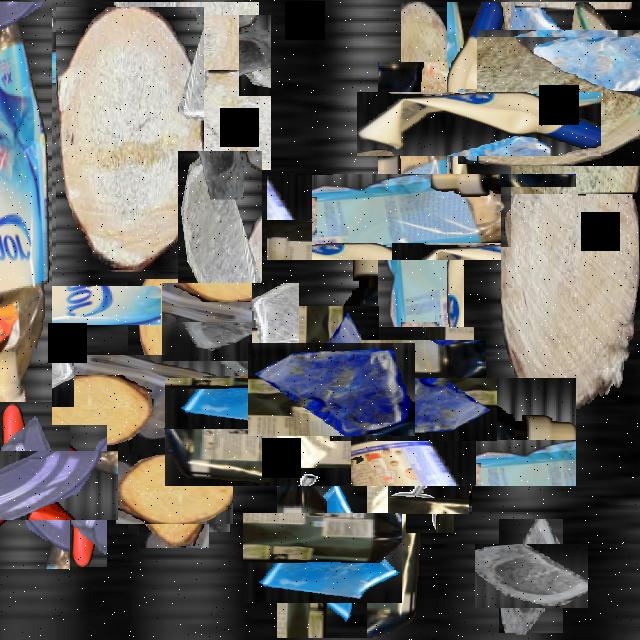glass: (267, 324, 397, 455), (260, 496, 384, 620), (178, 151, 262, 301), (176, 268, 284, 376), (473, 73, 579, 179), (0, 426, 94, 544), (486, 532, 576, 620)
metal: (0, 16, 66, 97), (397, 457, 463, 524)
plastic: (240, 302, 500, 562), (322, 118, 520, 316), (90, 317, 268, 494), (97, 8, 265, 177), (402, 47, 556, 202), (0, 2, 52, 446), (0, 225, 100, 386), (368, 333, 480, 446), (33, 425, 107, 567)
wood: (56, 7, 204, 270), (501, 187, 639, 414), (490, 16, 640, 180), (127, 442, 221, 536), (401, 2, 449, 112)
